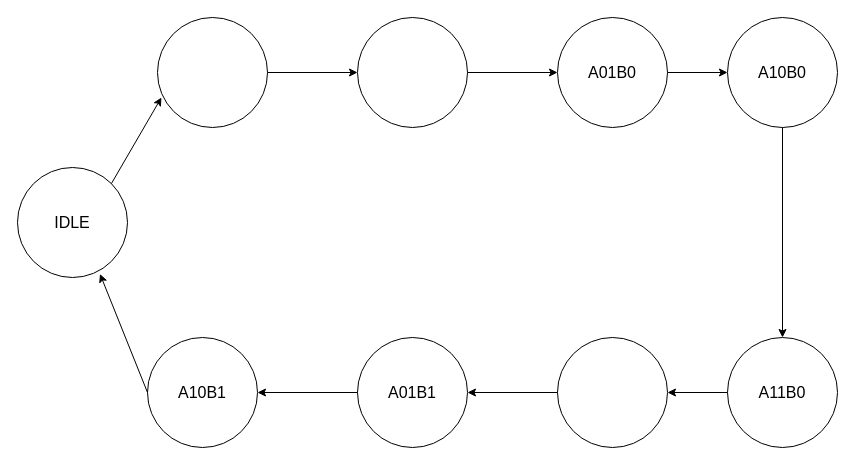
This 855x465 diagram has some shape labels left out. The centre of each missing label's shape, as x and y in pixels:
"A00B0" belongs at (412,72).
"A00B1" belongs at (612,392).
"START" belongs at (212,72).
